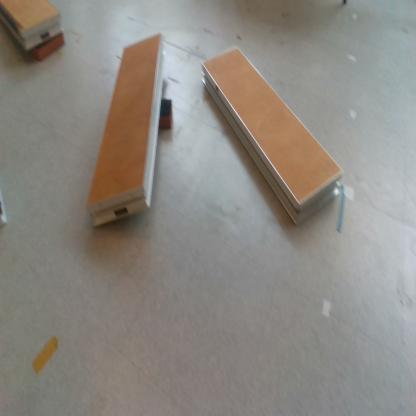Stairs: (202, 48, 347, 227), (87, 34, 168, 232), (1, 1, 63, 55)
